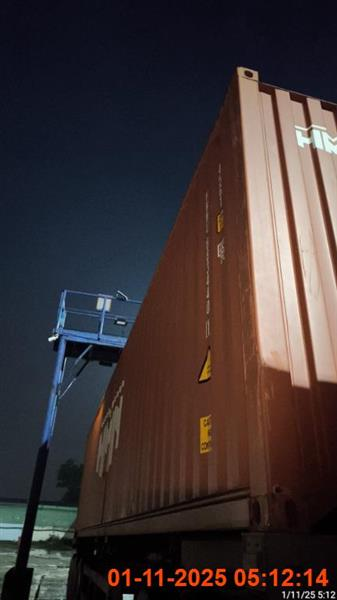broken: (66, 68, 335, 596)
